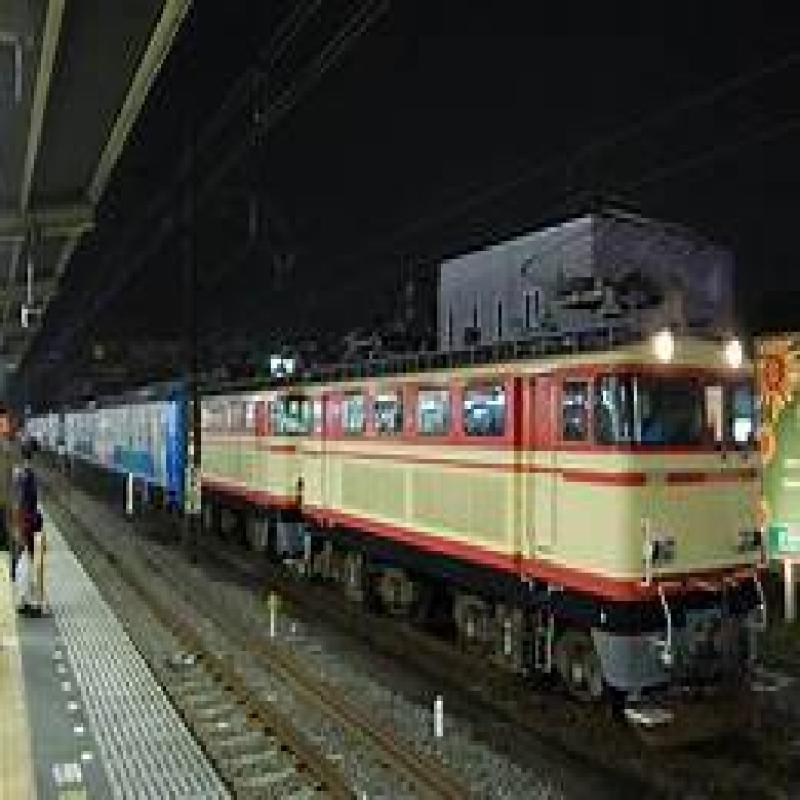train: (59, 365, 755, 647)
